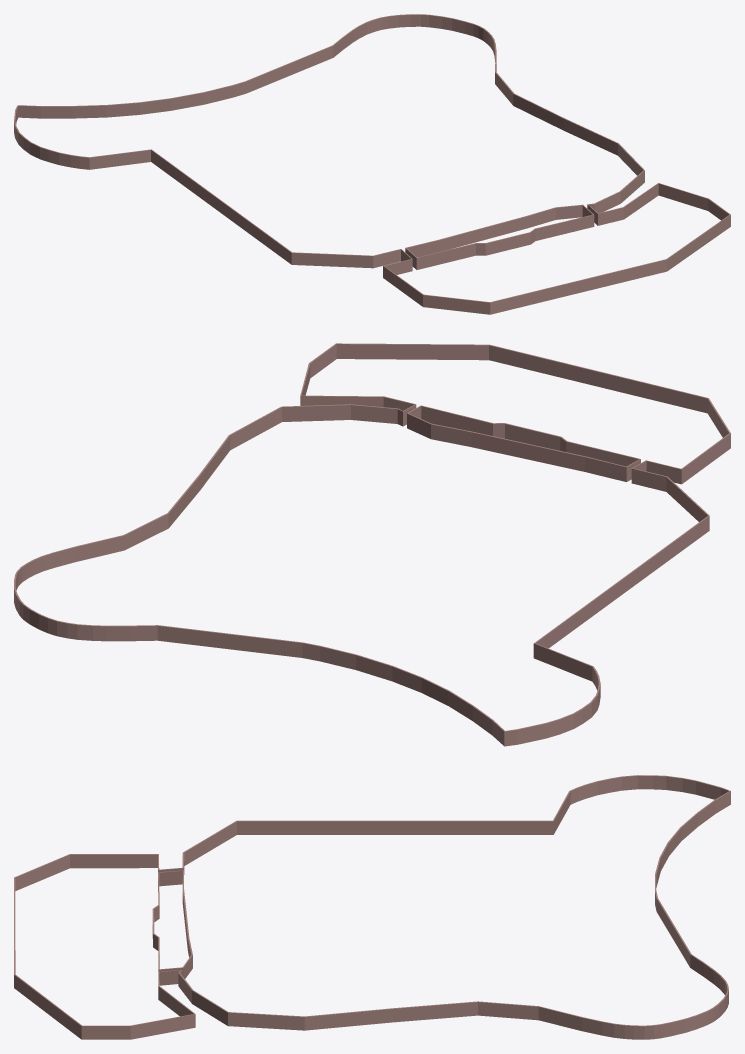
Rendered from invisible_wall.fbx.
3 renders of one model, top to bottom at view 1: azimuth 30°, elevation 25°; view 2: azimuth 150°, elevation 25°; view 3: azimuth 270°, elevation 25°, orthographic. The views are drawn at different scales.
Visible parts, largest first — view 1: invisible_wall; view 2: invisible_wall; view 3: invisible_wall.
Part boxes in pixels (bbox=[...]): invisible_wall: bbox=[14, 14, 730, 314]; invisible_wall: bbox=[14, 343, 730, 746]; invisible_wall: bbox=[14, 775, 730, 1039].
Size of the model in its own units: 79329 by 2300 by 95734.
